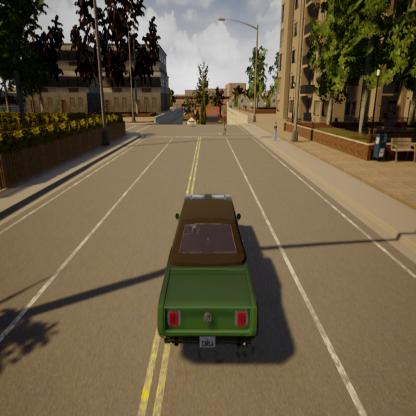Cars: (146, 164, 272, 376)
Pedestrian: (217, 98, 230, 143), (270, 114, 280, 138)
